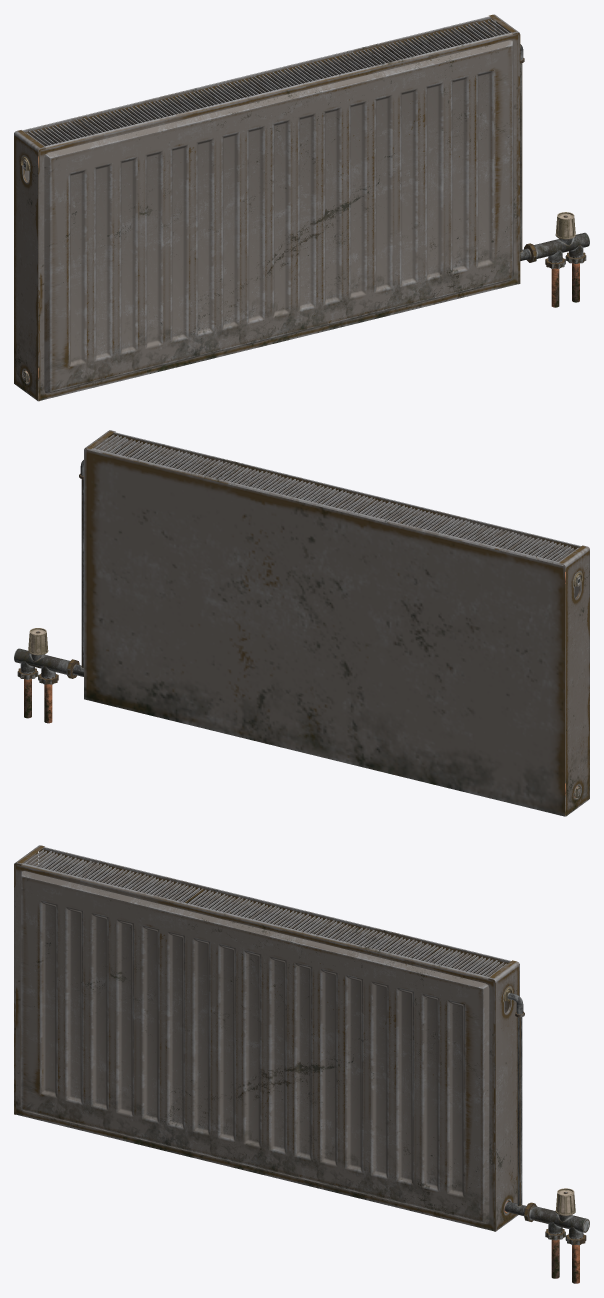
File: radiator_old_worn_dirty.glb
The picture shows the model from 3 angles, top to bottom: view 1: azimuth 30°, elevation 25°; view 2: azimuth 150°, elevation 25°; view 3: azimuth 330°, elevation 25°; orthographic projection.
Visible parts, largest first — view 1: radiator; view 2: radiator; view 3: radiator.
Part boxes in pixels (<box>): radiator: <box>14,14,589,401</box>; radiator: <box>14,430,589,816</box>; radiator: <box>14,845,589,1283</box>.
Size of the model in its own units: 35.65 by 17.87 by 2.92.
Materials: 1 (1 with a texture image).
